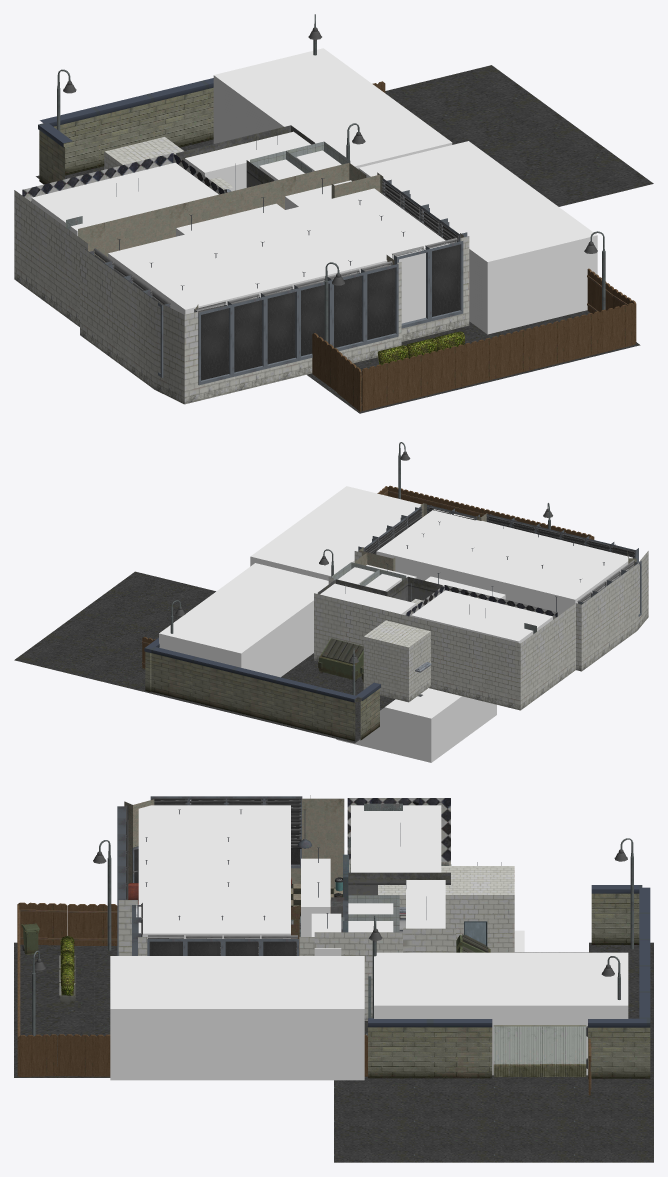
Rendered from GameScene-Cafeteria.glb.
The picture shows the model from 3 angles, top to bottom: view 1: azimuth 30°, elevation 25°; view 2: azimuth 150°, elevation 25°; view 3: azimuth 270°, elevation 25°; orthographic projection. The views are drawn at different scales.
Visible parts, largest first — view 1: ExteriorZone2, Comedor, Suelo_Parking2, ExteriorZone1, Pared_fuera3, Cafeteria_Valla (×10), Muro_Parking2, Pared, Cocina, Pared_fuera2, EntradaCafeteriaDesdeExterior1, Suelo_parking2 (+22 smaller); view 2: Comedor, ExteriorZone1, Suelo_Parking2, Muro_Parking2, Pared_fuera4, Pared_fuera3, ExteriorZone2, AlmacenSotano, Cocina, EntradaSotano_ExteriorParedes, Suelo_Parking1, Contenedor_basura3 (+6 smaller); view 3: ExteriorZone2, Suelo_Parking2, Comedor, ExteriorZone1, Muero_parking1, Suelo_parking2, Cafeteria_Valla (×5), Cocina, PuertaGrande_parking, Pared_fuera1, Pared, EntradaSotano_ExteriorParedes (+16 smaller).
Boxes of the visible parts, left/top/right/bottom form: ExteriorZone2: left=358, top=141, right=597, bottom=334; Comedor: left=108, top=188, right=449, bottom=314; Suelo_Parking2: left=385, top=65, right=653, bottom=206; ExteriorZone1: left=213, top=48, right=452, bottom=169; Pared_fuera3: left=14, top=190, right=184, bottom=404; Cafeteria_Valla (×10): left=312, top=303, right=634, bottom=411; Muro_Parking2: left=40, top=78, right=213, bottom=175; Pared: left=78, top=163, right=463, bottom=311; Cocina: left=31, top=162, right=218, bottom=235; Pared_fuera2: left=184, top=236, right=469, bottom=404; EntradaCafeteriaDesdeExterior1: left=185, top=131, right=310, bottom=191; Suelo_parking2: left=307, top=310, right=640, bottom=413; Comedor: left=376, top=509, right=632, bottom=615; ExteriorZone1: left=159, top=563, right=328, bottom=677; Suelo_Parking2: left=14, top=571, right=215, bottom=691; Muro_Parking2: left=151, top=647, right=358, bottom=741; Pared_fuera4: left=314, top=593, right=520, bottom=710; Pared_fuera3: left=520, top=551, right=648, bottom=709; ExteriorZone2: left=250, top=486, right=421, bottom=580; AlmacenSotano: left=336, top=688, right=496, bottom=762; Cocina: left=411, top=590, right=552, bottom=643; EntradaSotano_ExteriorParedes: left=363, top=631, right=430, bottom=702; Suelo_Parking1: left=145, top=653, right=395, bottom=743; Contenedor_basura3: left=318, top=638, right=363, bottom=681; ExteriorZone2: left=110, top=956, right=364, bottom=1080; Suelo_Parking2: left=334, top=1078, right=653, bottom=1162; Comedor: left=138, top=805, right=290, bottom=953; ExteriorZone1: left=374, top=952, right=628, bottom=1075; Muero_parking1: left=368, top=1018, right=650, bottom=1078; Suelo_parking2: left=14, top=942, right=117, bottom=1077; Cafeteria_Valla (×5): left=17, top=902, right=117, bottom=1076; Cocina: left=351, top=805, right=441, bottom=872; PuertaGrande_parking: left=493, top=1025, right=586, bottom=1076; Pared_fuera1: left=138, top=928, right=455, bottom=1020; Pared: left=124, top=798, right=344, bottom=887; EntradaSotano_ExteriorParedes: left=378, top=895, right=514, bottom=952.
Size of what is drawn, in the model's own units: 29.24 by 8.5 by 28.01.
Materials: 11 (8 with a texture image).
